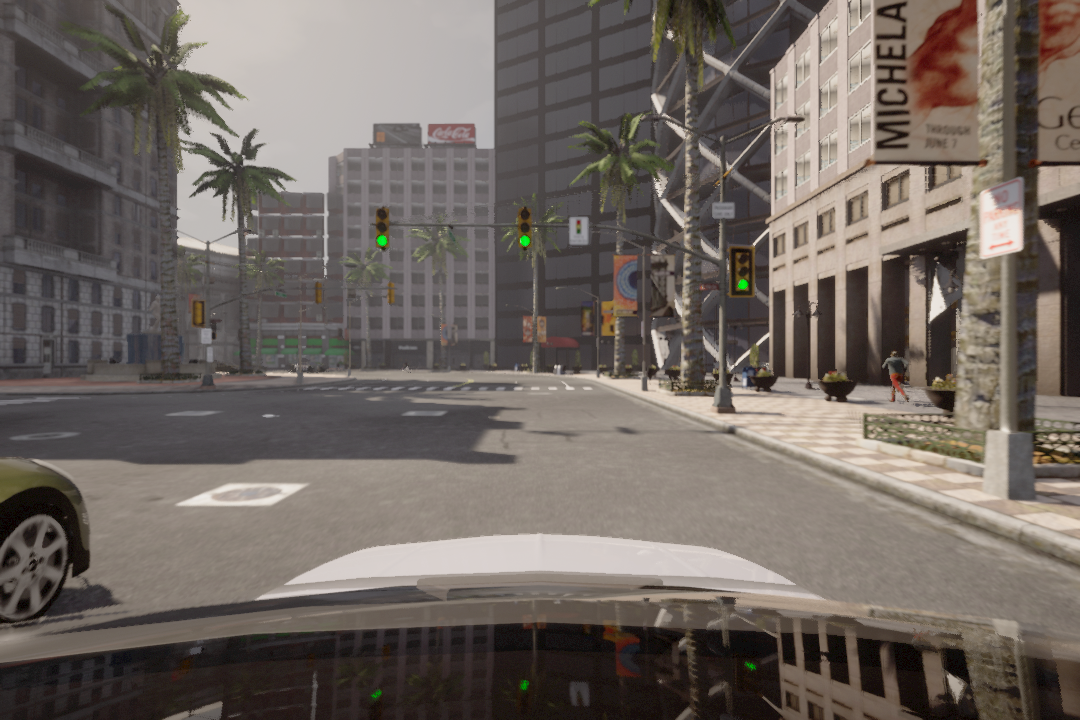TrafficLight: (727, 245, 755, 296), (374, 207, 392, 251), (516, 204, 531, 251)
